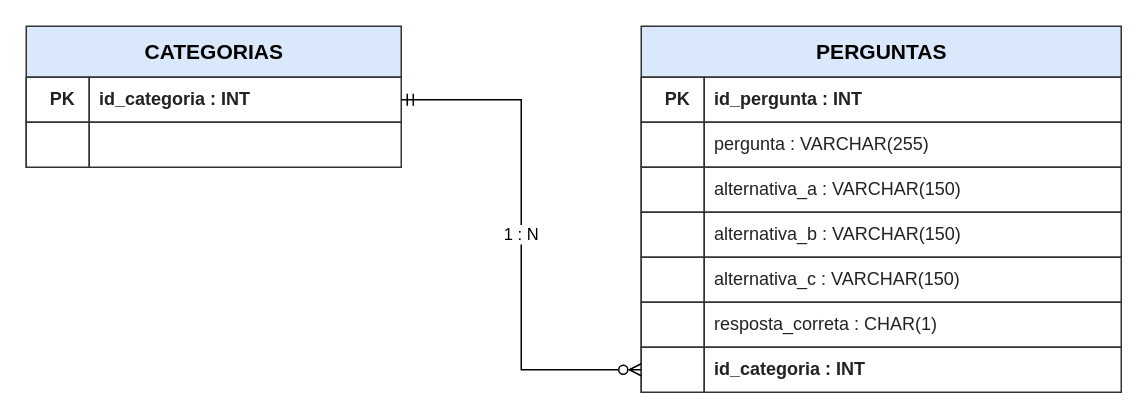
The diagram is 1148 pixels wide and 419 high, and some of its shapes have lost their labels. Each missing label, with the centre of its shape:
"descricao : VARCHAR(60)" belongs at pixel 244 144.
"FK" belongs at pixel 672 369.
